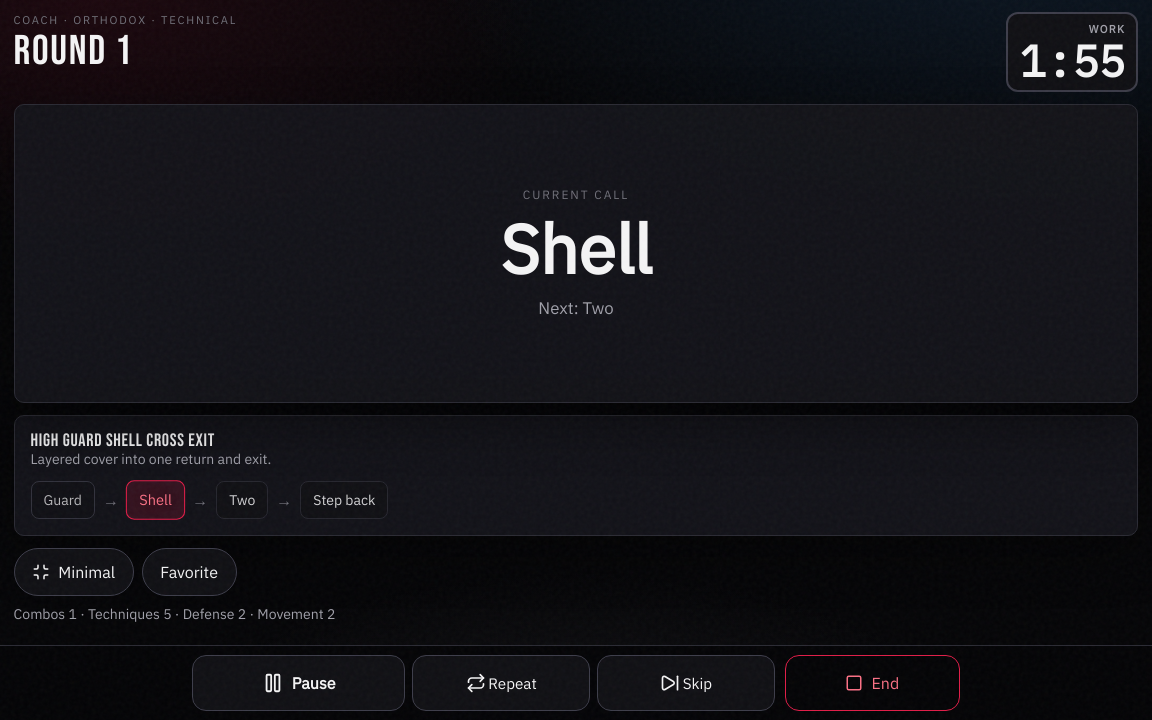
minimal session Next preview › toggling Minimal during an active workout hides Next preview
Expected: the element named "session controls" is shown, [0,645,1151,719]
Expected: the text "Next: Two" is shown, [538,296,614,321]
Click the button with aria-label "enter minimal mode" at (74, 572), box [14,548,134,596]
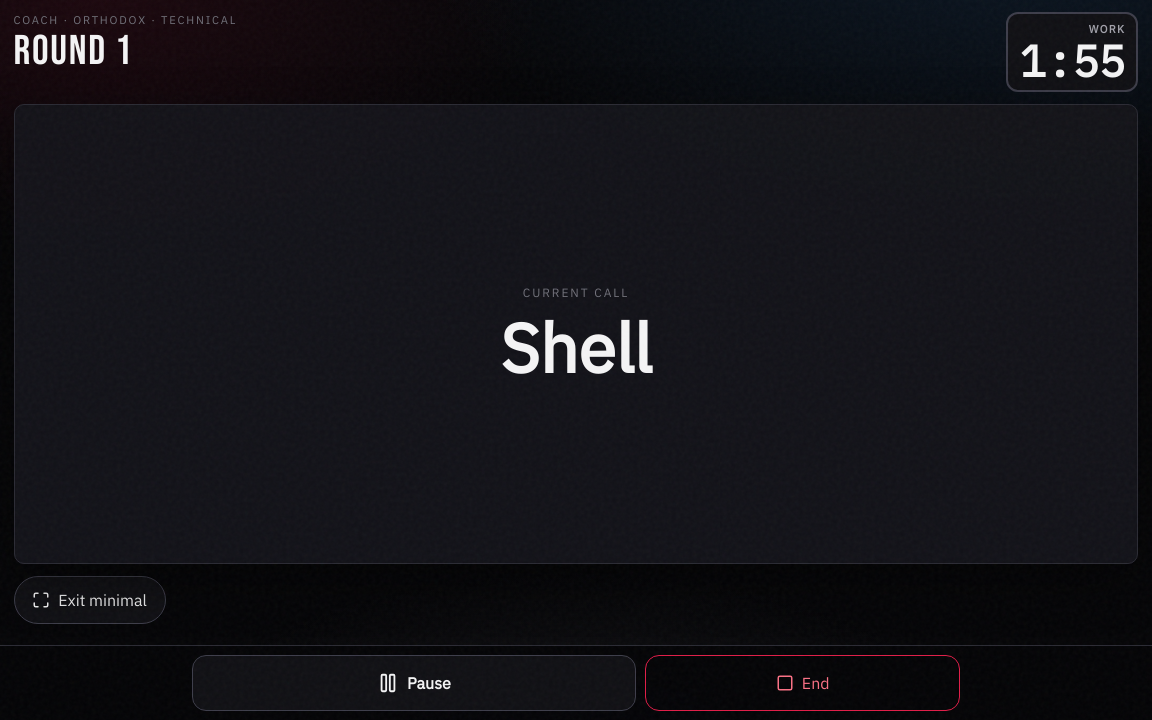
Now the text with class "session-call-next" is gone
Now the text "Next:" is gone
